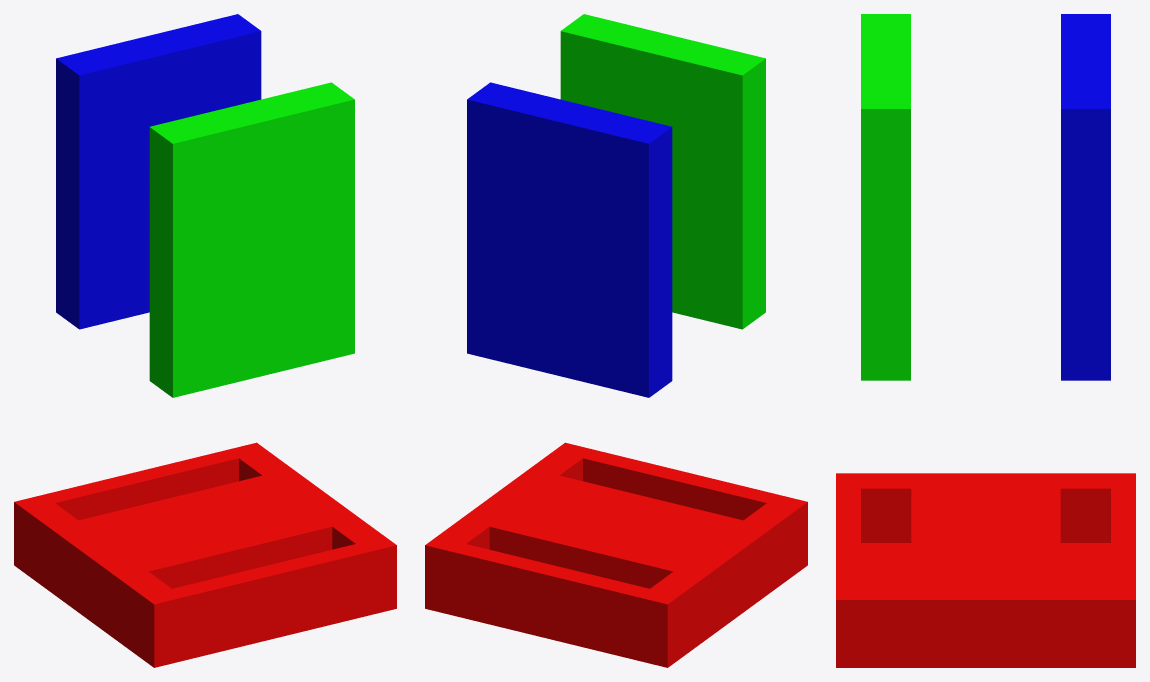
The model's file is RGB_Stool.fbx.
The picture shows the model from 3 angles, left to right: view 1: azimuth 30°, elevation 25°; view 2: azimuth 150°, elevation 25°; view 3: azimuth 270°, elevation 25°; orthographic projection. The views are drawn at different scales.
Visible parts, largest first — view 1: Base, Leg2, Leg1; view 2: Base, Leg1, Leg2; view 3: Base, Leg1, Leg2.
Part boxes in pixels (box(x1,y1,x2,y2)): Base: box(14, 442, 396, 667); Leg2: box(149, 82, 354, 397); Leg1: box(56, 14, 261, 329); Base: box(425, 442, 807, 667); Leg1: box(467, 82, 672, 397); Leg2: box(560, 14, 765, 329); Base: box(836, 473, 1135, 667); Leg1: box(1061, 14, 1110, 380); Leg2: box(861, 14, 910, 380).
Bounding box in the file's own units: 60 × 120 × 60.
